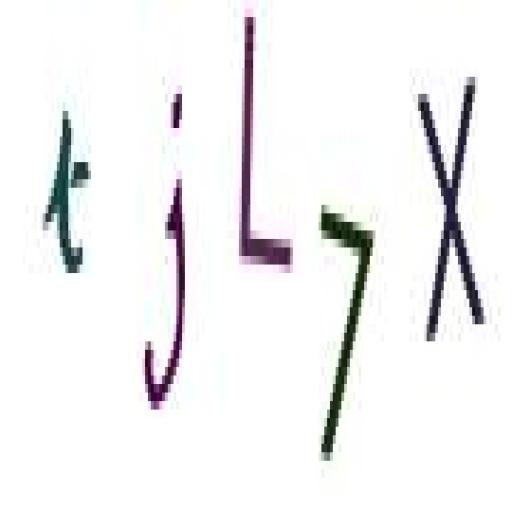7: (317, 190, 378, 471)
L: (236, 7, 298, 288)
X: (415, 85, 489, 350)
j: (142, 73, 192, 421)
t: (37, 99, 99, 285)
